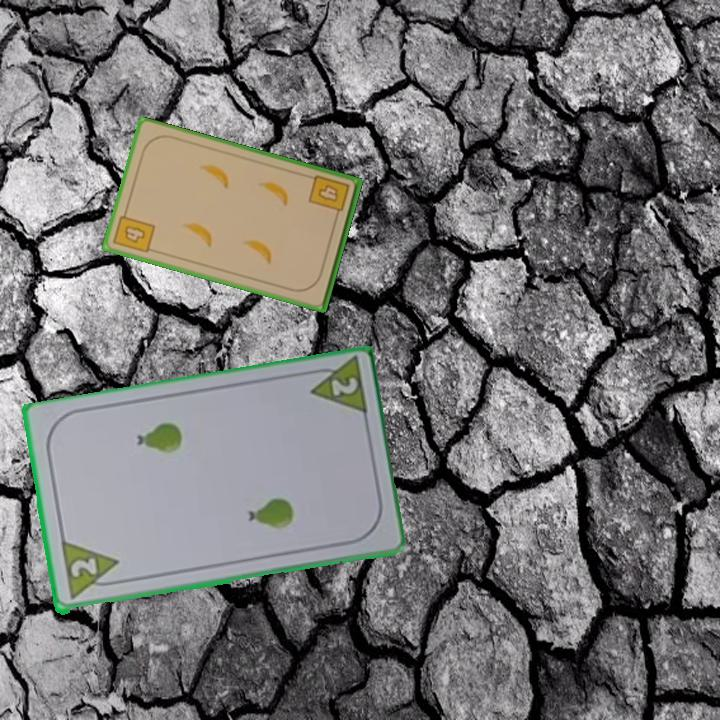2p: (327, 374, 361, 400), (66, 555, 99, 581)
4b: (110, 206, 158, 256), (305, 171, 352, 222)
